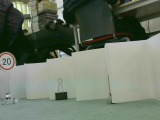speed_20: (1, 52, 16, 71)
